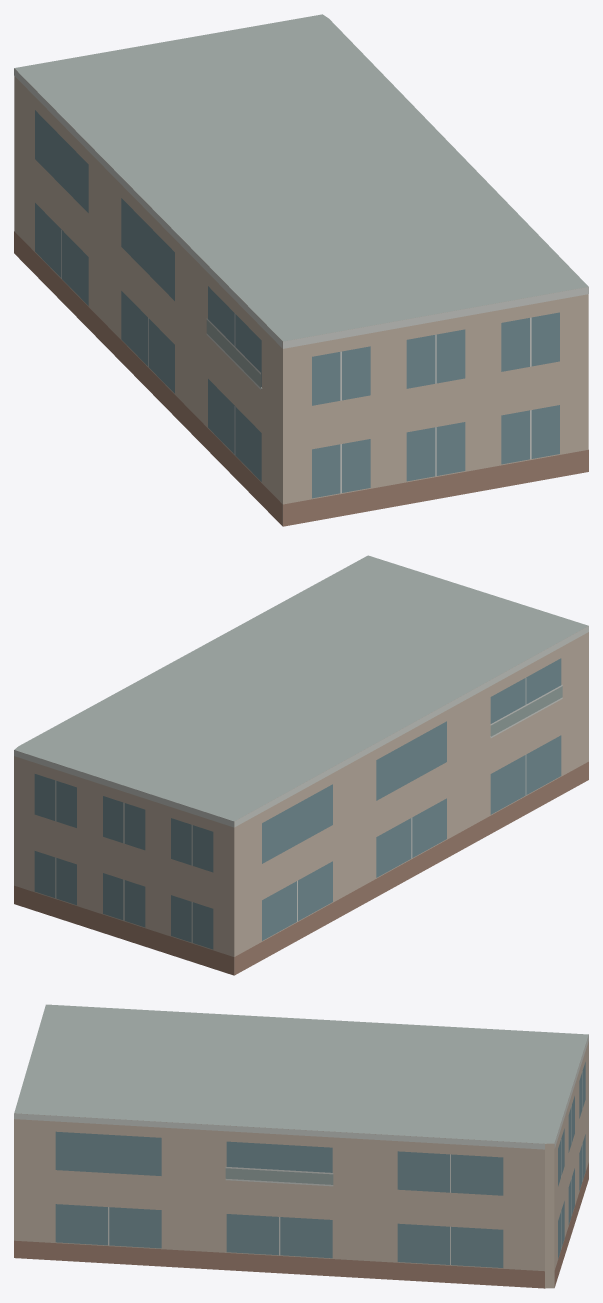
File: survey-upis-32916988.glb
The picture shows the model from 3 angles, top to bottom: view 1: azimuth 30°, elevation 25°; view 2: azimuth 150°, elevation 25°; view 3: azimuth 270°, elevation 25°; orthographic projection. The views are drawn at different scales.
Parts seen in each view (by area): view 1: survey-upis-32916988.tmp; view 2: survey-upis-32916988.tmp; view 3: survey-upis-32916988.tmp.
Boxes of the visible parts, x1,y1,x2,y2 form: survey-upis-32916988.tmp: (14, 14, 588, 526); survey-upis-32916988.tmp: (14, 555, 588, 975); survey-upis-32916988.tmp: (14, 1004, 588, 1288).
Bounding box in the file's own units: 12.62 × 6.1 × 21.98.
